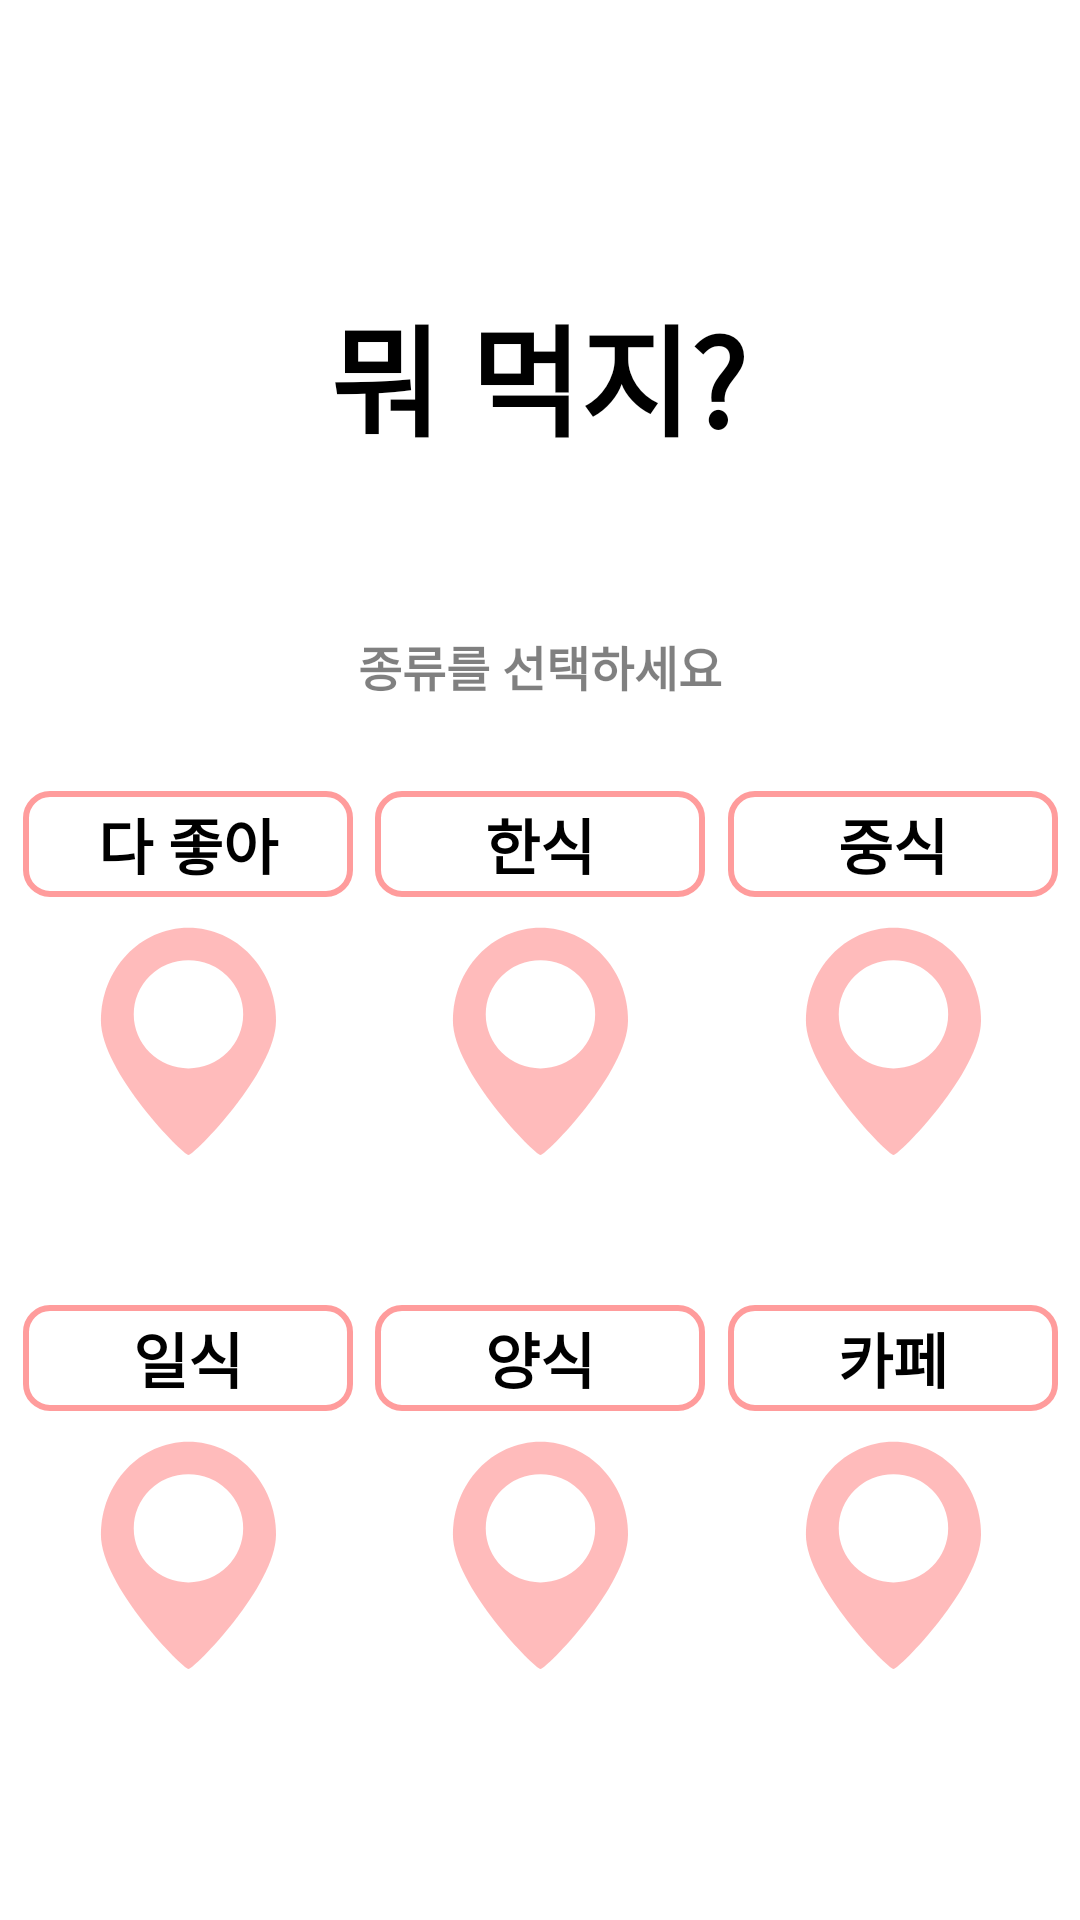

Locate icon controls on the screen. Image size 1080px x 1920px, boxes as region(x1, y1, x2, y2).
location mark: region(101, 928, 276, 1155), region(453, 928, 628, 1155), region(806, 928, 981, 1155), region(101, 1442, 276, 1669), region(453, 1442, 628, 1669), region(806, 1442, 981, 1669)
